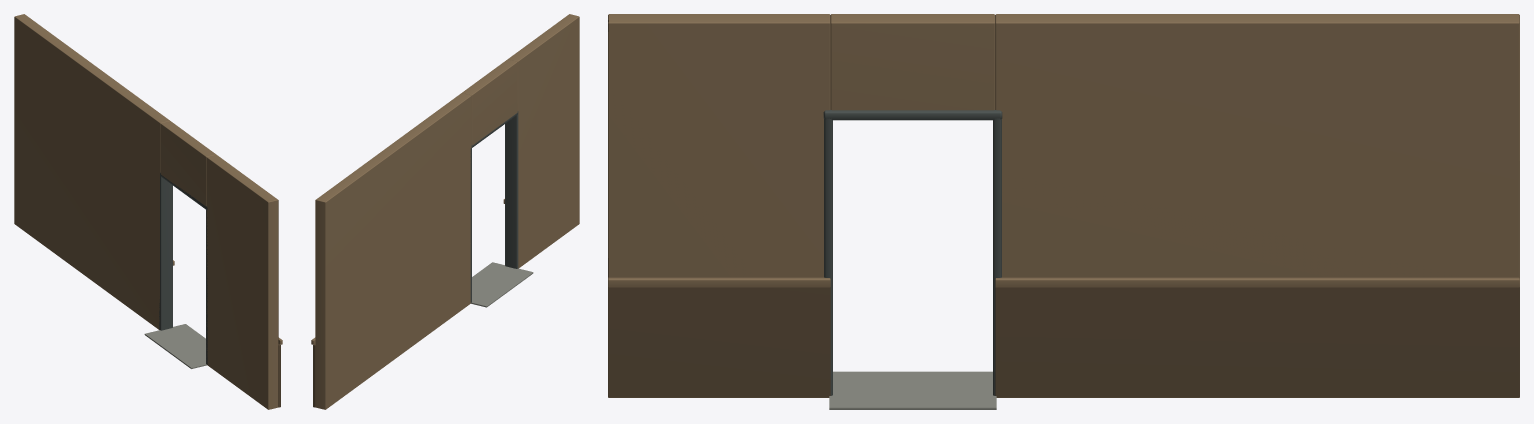
File: Furniture_RightPartition62.fbx
3 renders of one model, left to right at view 1: azimuth 30°, elevation 25°; view 2: azimuth 150°, elevation 25°; view 3: azimuth 270°, elevation 25°, orthographic. The views are drawn at different scales.
Visible parts, largest first — view 1: Furniture_RightPartition62; view 2: Furniture_RightPartition62; view 3: Furniture_RightPartition62.
Boxes of the visible parts, left/top/right/bottom form: Furniture_RightPartition62: left=14, top=14, right=282, bottom=409; Furniture_RightPartition62: left=311, top=14, right=579, bottom=409; Furniture_RightPartition62: left=608, top=14, right=1519, bottom=409.
Size of the model in its own units: 62 by 301 by 664.
